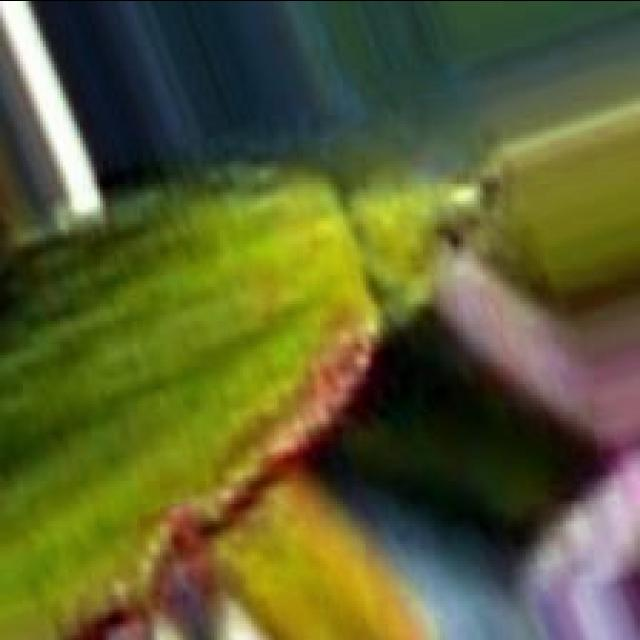Unhealthy: (59, 314, 385, 640)
